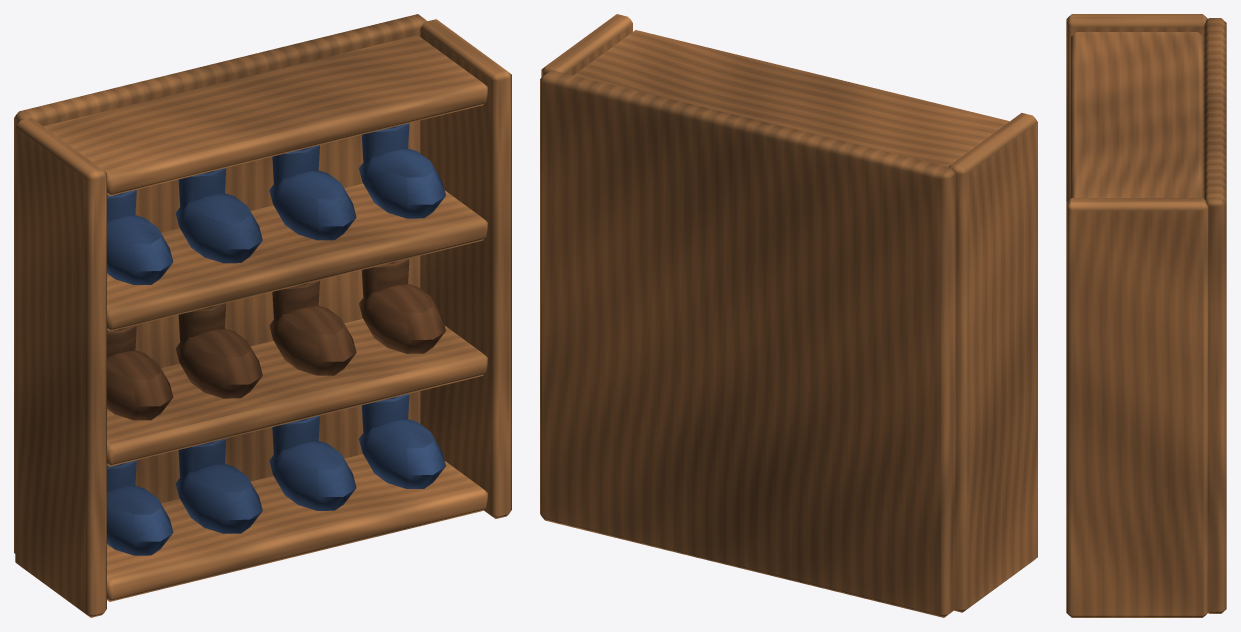
The model's file is Furn_Life_ShoeRack.fbx.
The picture shows the model from 3 angles, left to right: view 1: azimuth 30°, elevation 25°; view 2: azimuth 150°, elevation 25°; view 3: azimuth 270°, elevation 25°; orthographic projection. The views are drawn at different scales.
Parts seen in each view (by area): view 1: Furn_Life_ShoeRack; view 2: Furn_Life_ShoeRack; view 3: Furn_Life_ShoeRack.
Boxes of the visible parts, x1,y1,x2,y2 form: Furn_Life_ShoeRack: (14, 14, 511, 617); Furn_Life_ShoeRack: (540, 14, 1037, 617); Furn_Life_ShoeRack: (1066, 14, 1226, 617).
Bounding box in the file's own units: 1 × 1 × 0.35.
Materials: 3 (3 with a texture image).
